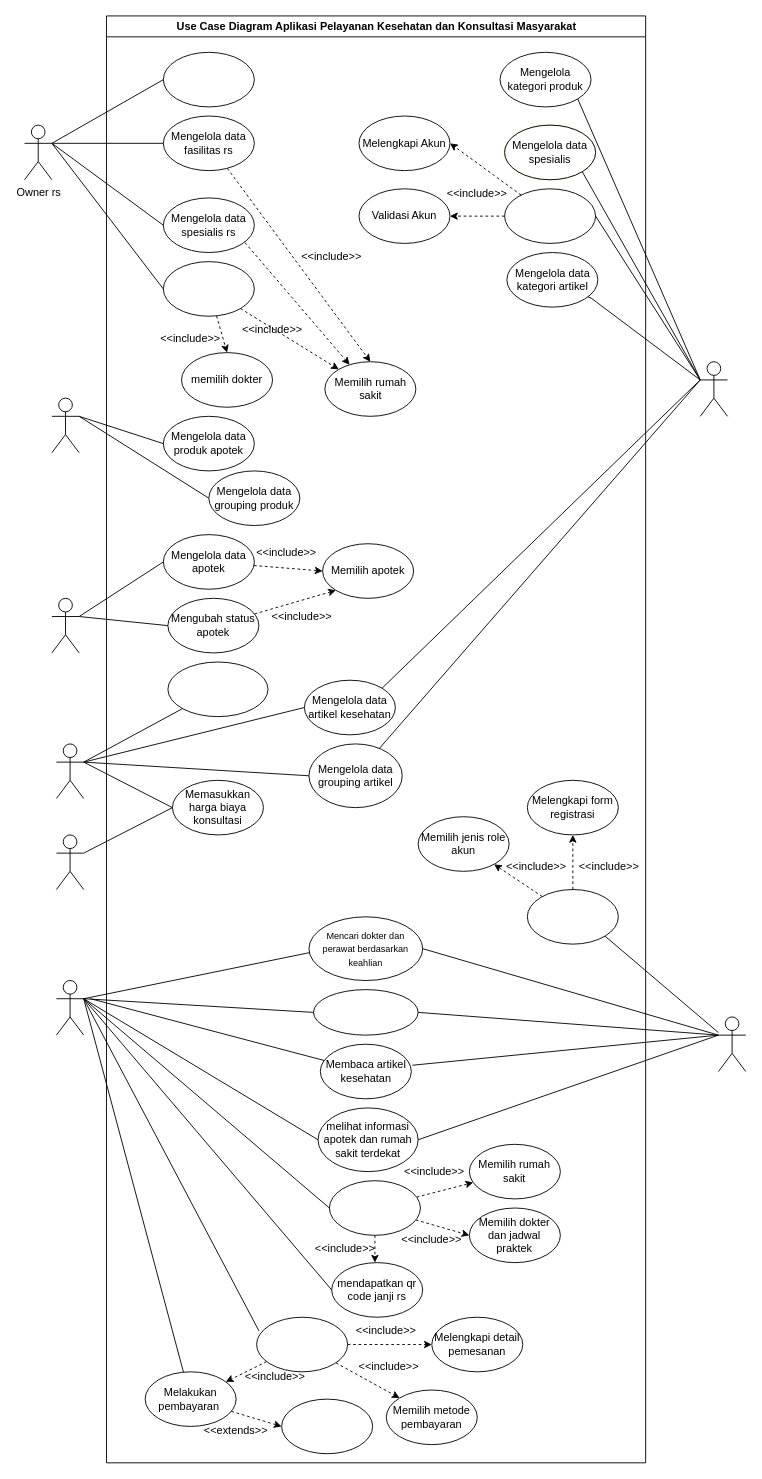
The diagram is 762 pixels wide and 1479 high, and some of its shapes have lost their labels. Each missing label, with the box of its shape:
Admin Apotek: (51, 397, 79, 453)
Administrator: (699, 361, 728, 416)
Aktivasi Akun: (504, 188, 596, 243)
Dokter: (56, 743, 84, 799)
Guest: (718, 1016, 746, 1072)
Melihat daftar dokter berdasarkan spesialis: (313, 989, 418, 1035)
Melihat riwayat pembelian: (281, 1398, 373, 1454)
Member: (56, 980, 84, 1035)
Membuat janji rs: (329, 1180, 420, 1235)
Memesan produk obat dan vitamin: (256, 1316, 348, 1372)
Mengelola data rumah sakit: (162, 51, 254, 107)
Mengelola jadwal praktek dokter rs: (162, 261, 254, 316)
Owner Apotek: (51, 597, 79, 653)
Perawat: (56, 834, 84, 890)
Registrasi Akun: (526, 889, 618, 944)
ubah status antrian kunjungan: (167, 661, 268, 717)
